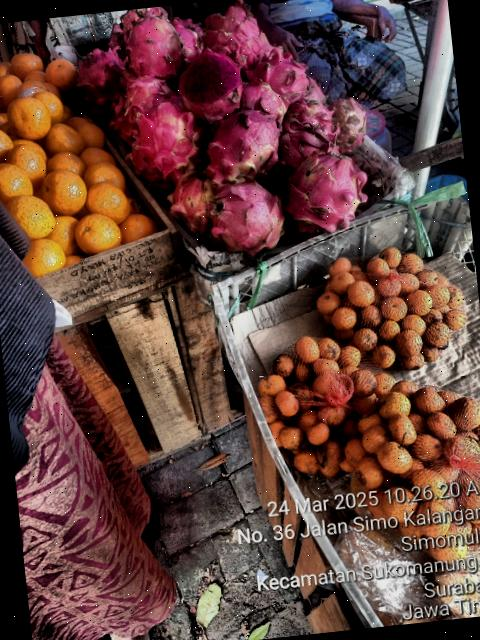buah-naga-belum-matang: (166, 172, 219, 234)
buah-naga-matang: (276, 148, 371, 234), (123, 102, 205, 186), (203, 104, 284, 185), (205, 178, 292, 250), (115, 7, 188, 82), (195, 2, 268, 70), (109, 74, 175, 138), (276, 96, 336, 164), (243, 41, 314, 96), (72, 46, 128, 104), (241, 77, 290, 123)
